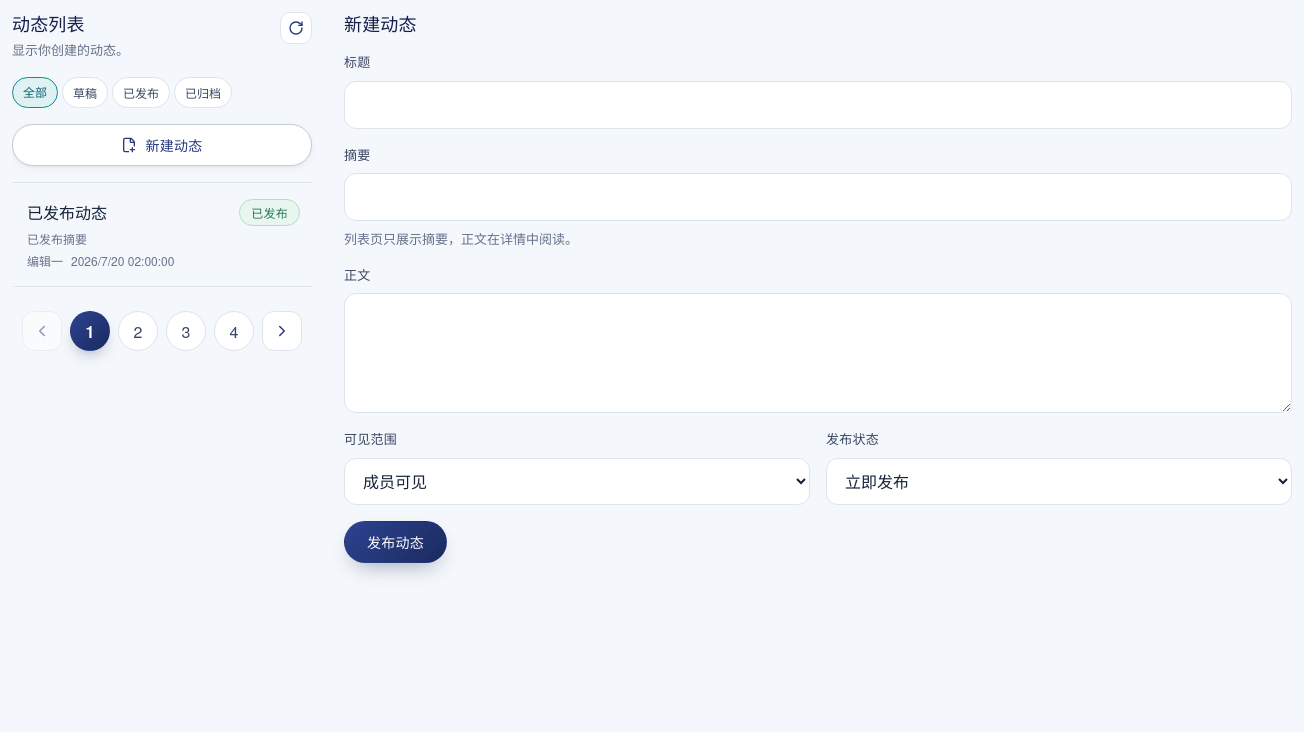
Test: AdminNews manage workspace › corrects a multi-page total shrink before committing the list
This screenshot has width=1304, height=732.
Click the button "4" at (234, 332), box [214,312,254,352]
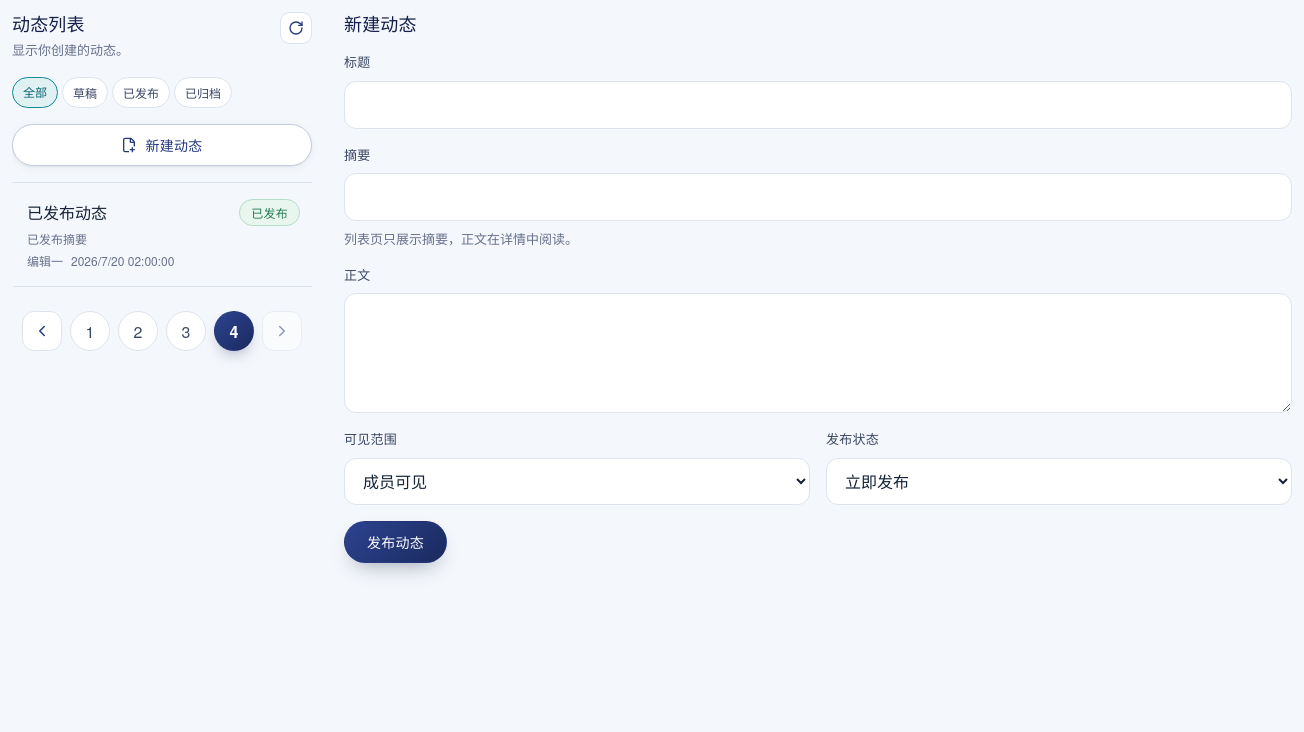
Click the button named "刷新动态列表" at (296, 28), box [280,12,312,44]
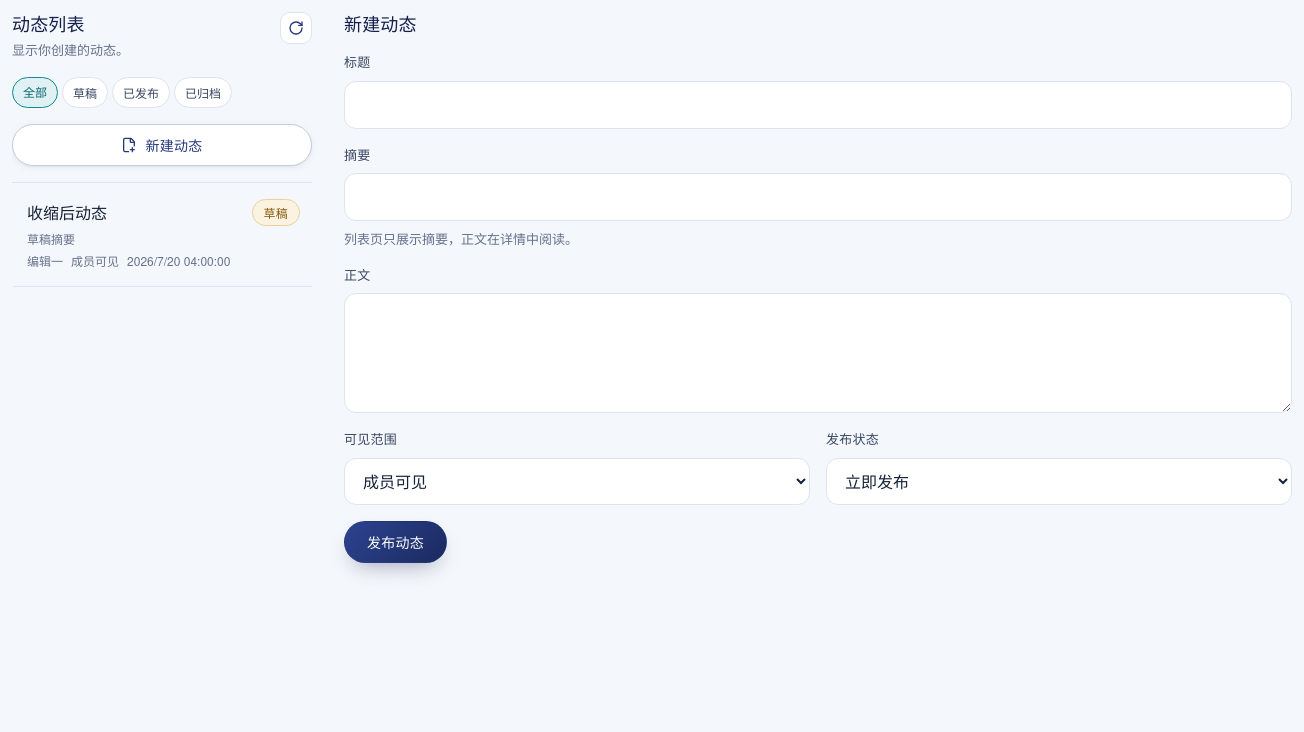
Result: the text "收缩后动态" is shown at [27,200,107,226]
